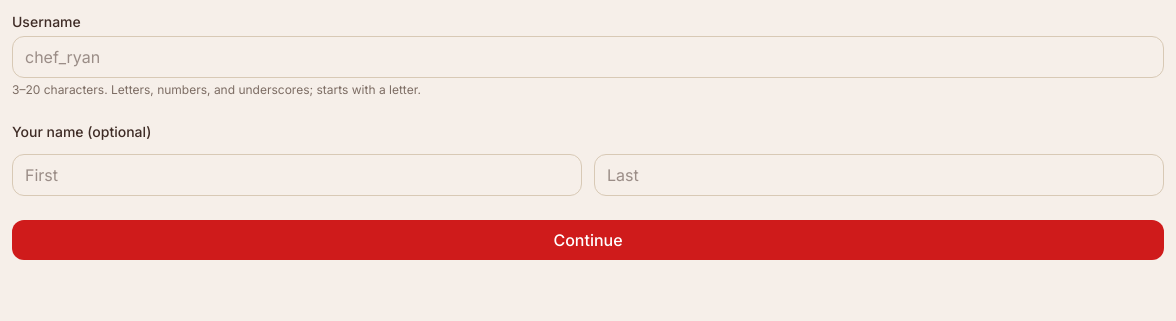
Scenario: OnboardingForm › surfaces a server error in an alert and marks the field invalid
Type "taken" into the field labelled "Username" at (588, 57), box [12,36,1164,78]
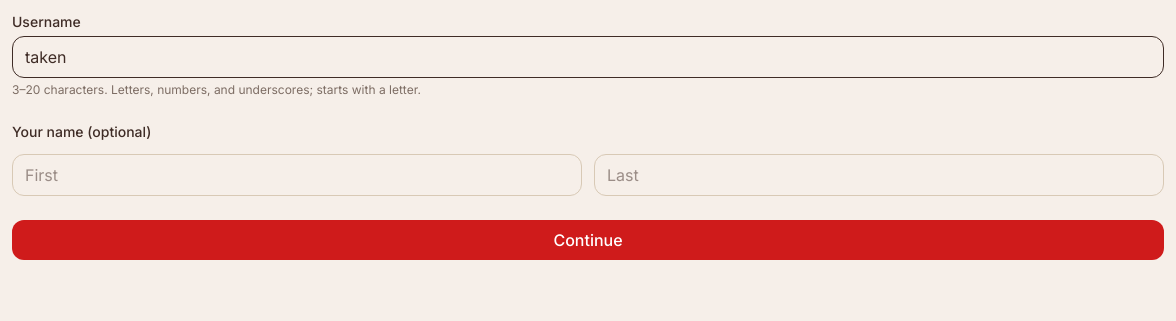
Click the button "Continue" at (588, 240), box [12,220,1164,260]
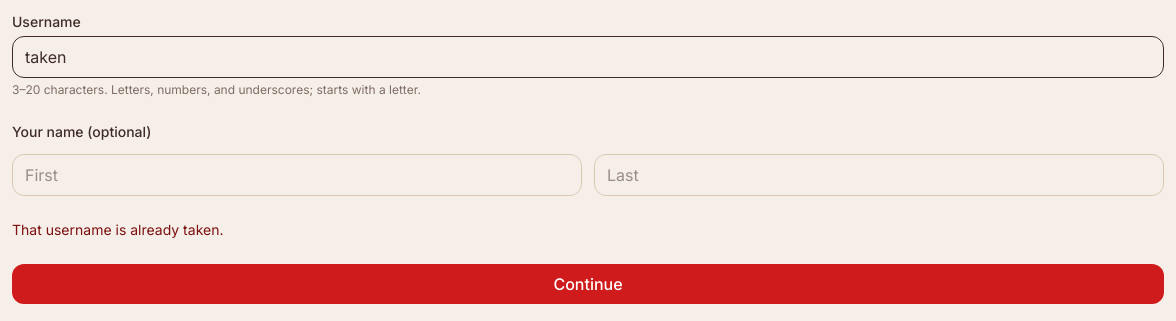
Expected: the message reads "That username is already taken.", [12,221,224,238]
